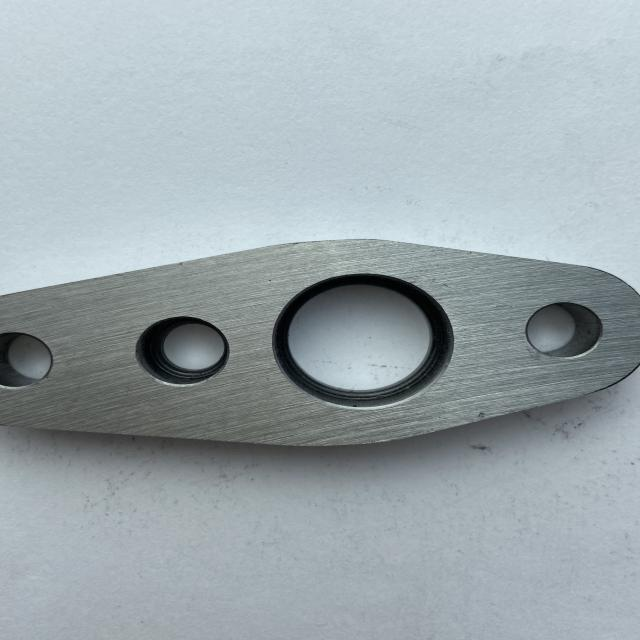chap: (473, 409, 488, 418)
